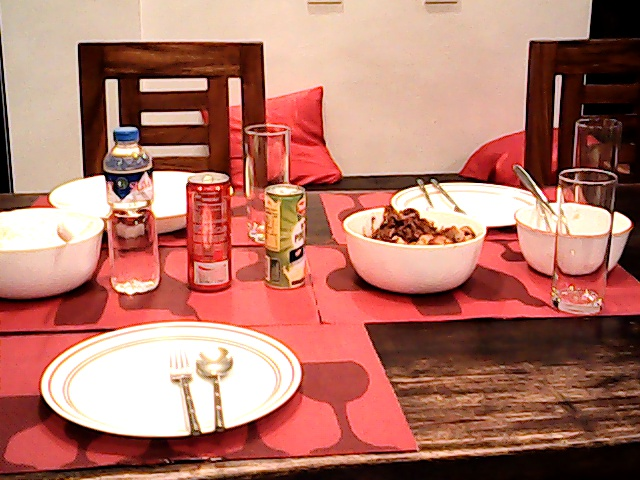Cola: (177, 169, 237, 288)
Pine Juice: (256, 182, 313, 293)
Summit Water: (99, 125, 159, 294)
